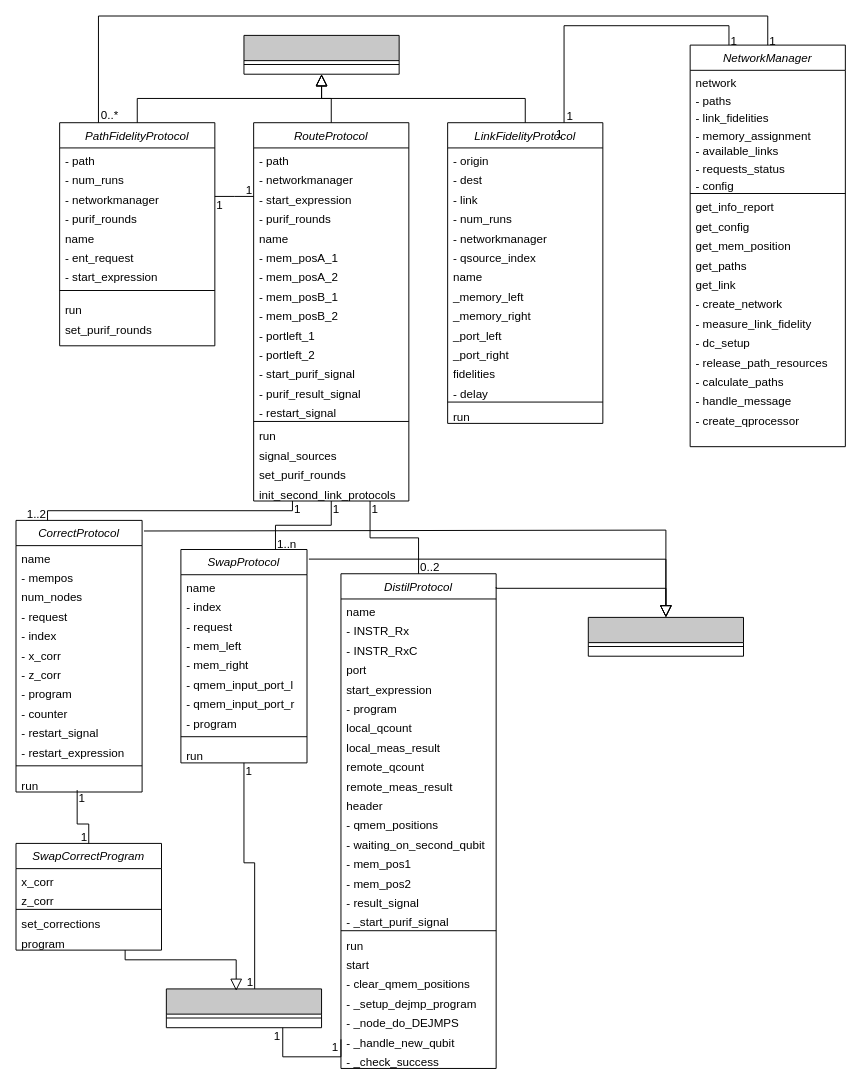
This 861x1084 diagram has some shape labels left out. The shapes that lost their labels are listed below. From the top down, each one's centre as x and y in pixels, then its label:
the point at 321,54: LocalProtocol
the point at 665,636: NodeProtocol
the point at 243,1008: QuantumProgram
